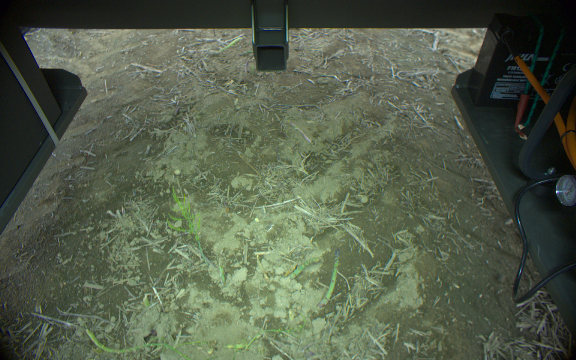aspa: (82, 325, 188, 359), (315, 246, 340, 310), (290, 257, 320, 279)
